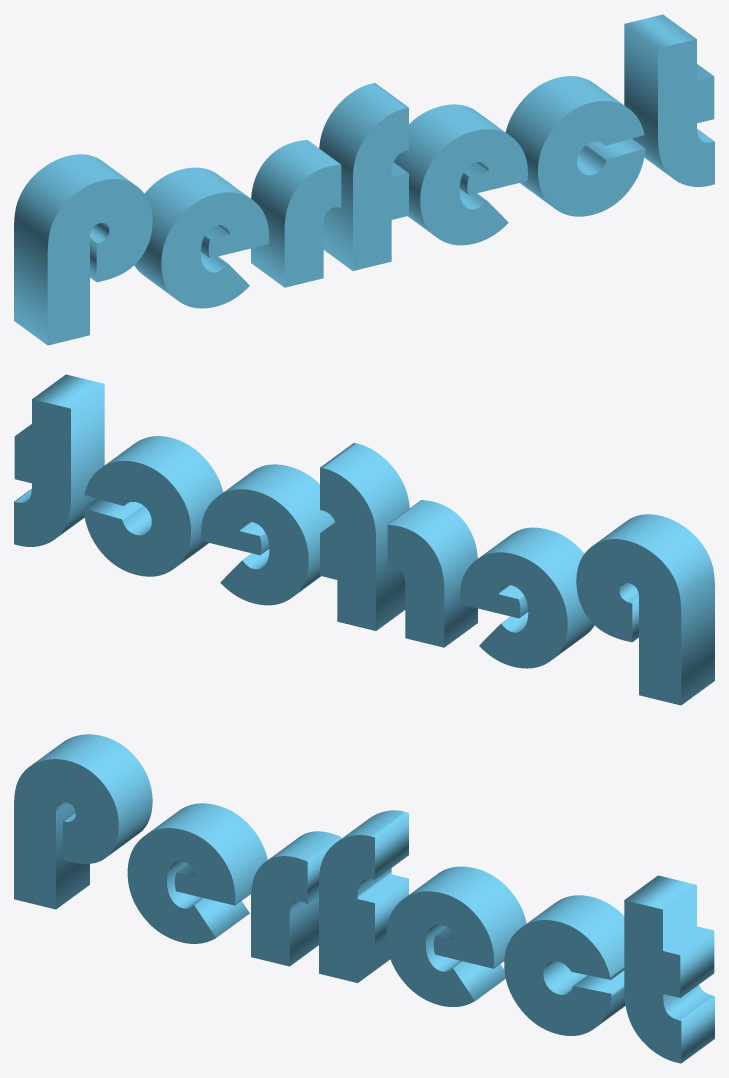
File: Perfect.fbx
3 renders of one model, top to bottom at view 1: azimuth 30°, elevation 25°; view 2: azimuth 150°, elevation 25°; view 3: azimuth 330°, elevation 25°, orthographic.
Parts seen in each view (by area): view 1: Miss; view 2: Miss; view 3: Miss.
Boxes of the visible parts, bbox=[...] form: Miss: bbox=[14, 14, 714, 345]; Miss: bbox=[14, 374, 714, 705]; Miss: bbox=[14, 734, 714, 1063].
Size of the model in its own units: 274 by 60.35 by 24.
